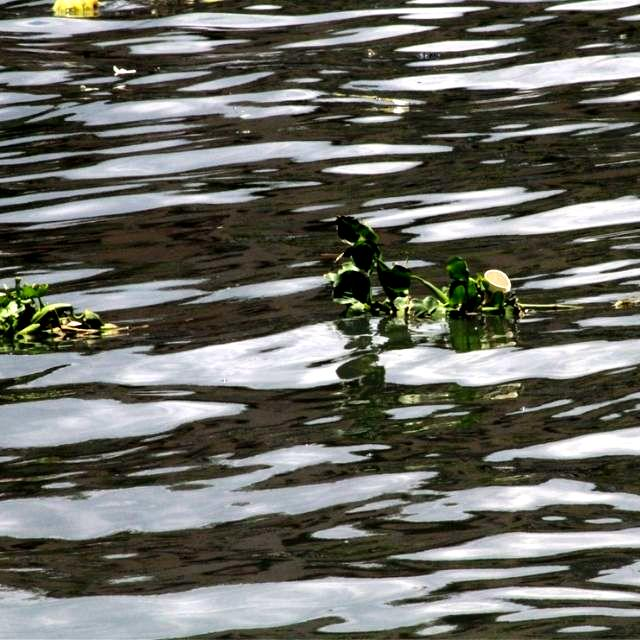plastic bottle: (47, 1, 101, 15)
water-hyacinth: (329, 215, 528, 329), (3, 269, 120, 352)
